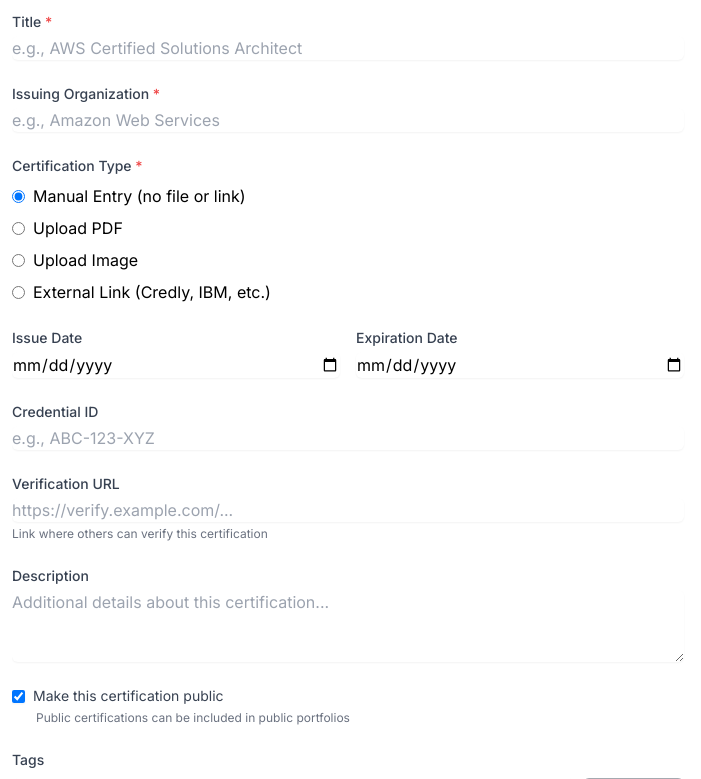
it: CertificationForm › certification types › should show file upload when PDF type is selected
The image size is (701, 779).
Click the radio button labelled "Upload PDF".
click(18, 228)  # box [12,222,25,234]
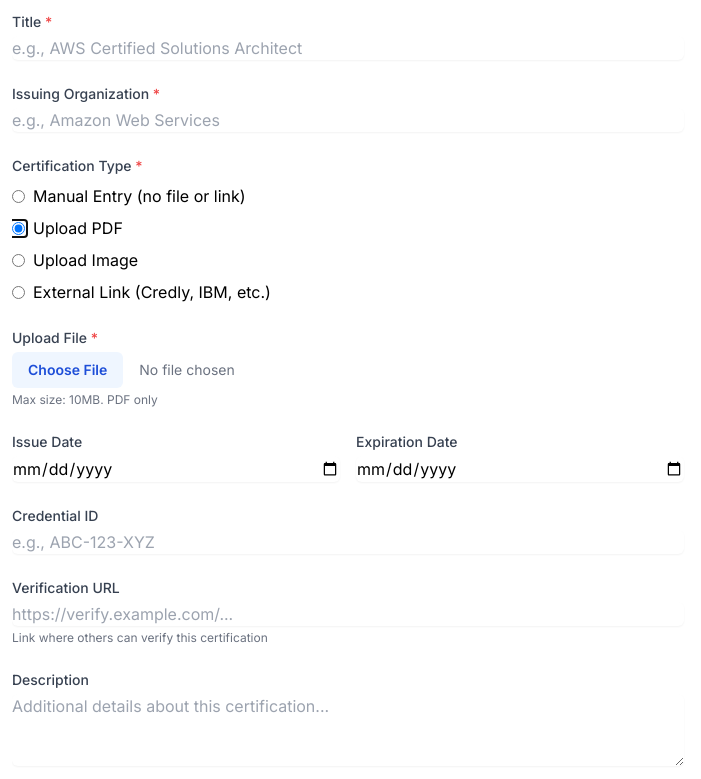
Expected: the file field labelled "Upload File *" is shown, [12,352,684,388]
